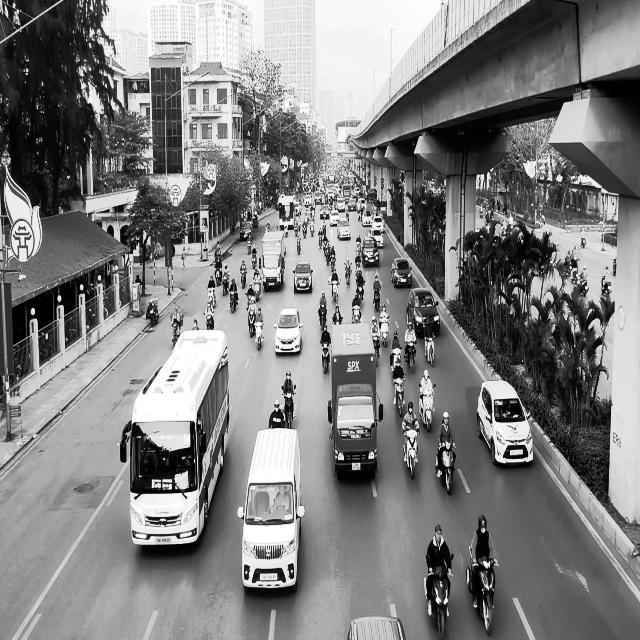bus: (119, 328, 230, 548)
car: (476, 379, 534, 466), (406, 288, 440, 336), (346, 616, 406, 640), (273, 308, 303, 355), (390, 258, 412, 288), (293, 261, 313, 293), (239, 221, 253, 241)
motorbike: (466, 547, 496, 635), (425, 568, 452, 639), (435, 440, 456, 495), (418, 382, 436, 432), (402, 428, 419, 480), (281, 384, 296, 428), (392, 375, 405, 417), (423, 332, 435, 367), (320, 342, 330, 374), (148, 298, 159, 325), (171, 317, 181, 345), (254, 322, 263, 350), (601, 276, 611, 296)
truck: (237, 427, 305, 593), (327, 322, 383, 479)
